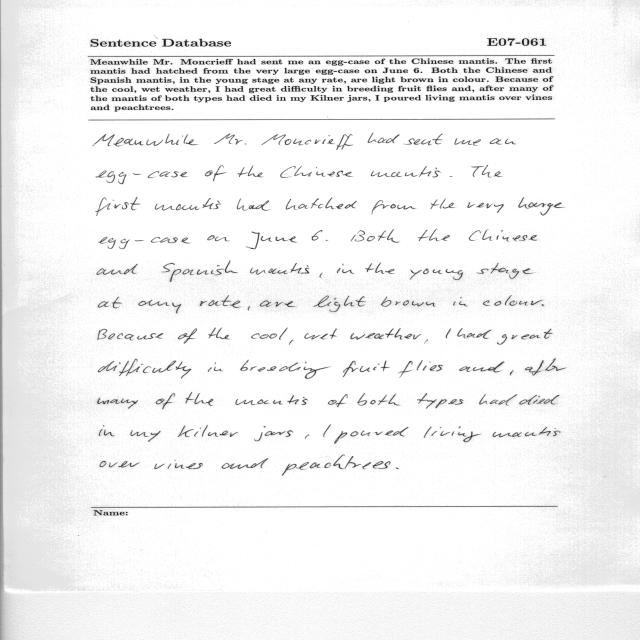word: (282, 455, 391, 476), (98, 359, 191, 379), (240, 360, 330, 379), (162, 260, 238, 282), (262, 134, 353, 150), (335, 427, 409, 444), (93, 134, 197, 146), (96, 171, 187, 184), (99, 237, 190, 249), (286, 197, 357, 210), (424, 426, 480, 442), (477, 263, 532, 279), (497, 329, 552, 345), (280, 166, 353, 178), (246, 232, 297, 249), (155, 198, 221, 211), (96, 197, 140, 216), (314, 296, 365, 312), (519, 198, 564, 216), (398, 360, 443, 378), (350, 329, 421, 340), (371, 166, 440, 177), (469, 230, 537, 241), (343, 361, 389, 377), (418, 393, 464, 409), (235, 395, 308, 405), (178, 425, 238, 437), (98, 329, 163, 340), (250, 263, 309, 275), (525, 359, 566, 376), (493, 427, 561, 437), (483, 295, 543, 306), (351, 230, 400, 243), (372, 200, 416, 214), (254, 426, 293, 441), (410, 269, 463, 280), (139, 300, 182, 313), (358, 393, 400, 406), (381, 297, 435, 307), (200, 295, 240, 308), (222, 458, 268, 469), (460, 362, 505, 373), (479, 394, 517, 406), (97, 264, 138, 275), (154, 460, 203, 469), (98, 398, 138, 409), (251, 328, 287, 340), (404, 134, 442, 145), (519, 395, 560, 405), (237, 199, 270, 211), (468, 202, 504, 213), (186, 392, 213, 406), (458, 328, 492, 339), (304, 329, 337, 340), (471, 165, 501, 177), (214, 134, 246, 145), (418, 230, 450, 241), (366, 262, 395, 274), (205, 166, 226, 182), (131, 431, 161, 442), (368, 133, 400, 143), (178, 328, 197, 344), (156, 393, 175, 409), (237, 166, 263, 177), (98, 297, 122, 308), (328, 394, 347, 407), (260, 300, 295, 307), (431, 200, 455, 210), (100, 461, 140, 467), (208, 328, 229, 339), (454, 139, 481, 146), (337, 264, 354, 274), (100, 426, 115, 437), (490, 139, 516, 145), (208, 362, 223, 372), (207, 235, 229, 241), (453, 297, 467, 306), (312, 230, 323, 241), (323, 424, 331, 437), (446, 329, 451, 338), (289, 340, 294, 345), (305, 435, 309, 439), (319, 273, 322, 278), (510, 371, 513, 376), (247, 306, 250, 310), (425, 339, 428, 342), (542, 304, 544, 306), (450, 176, 453, 177), (396, 468, 399, 469), (326, 240, 328, 241)
